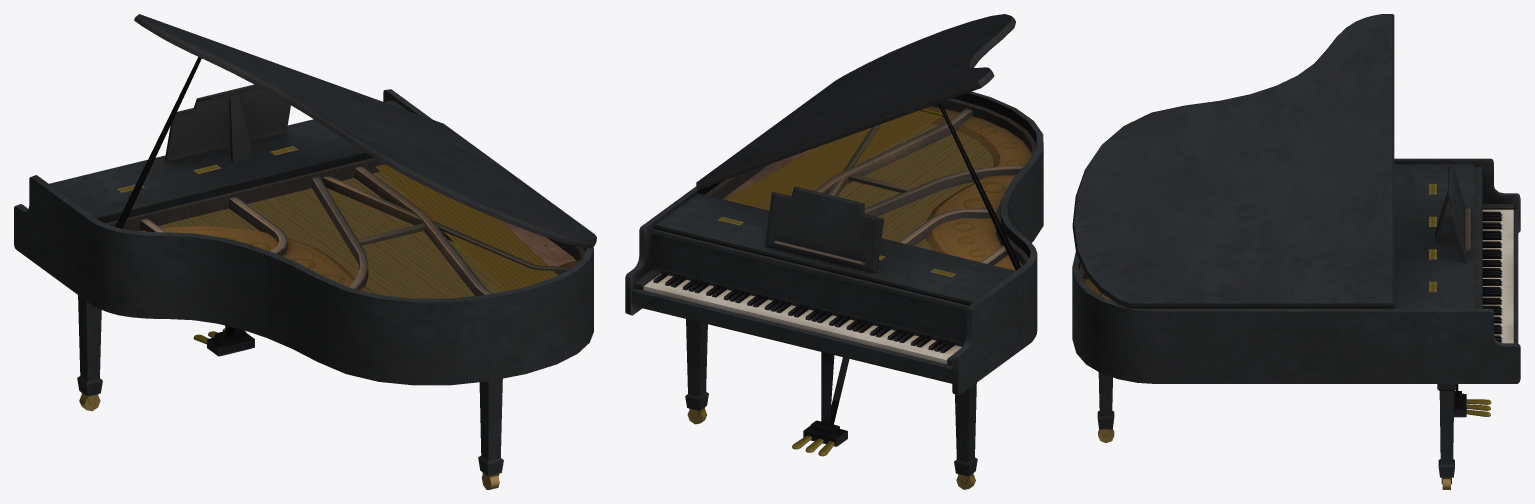
Rendered from furniture_piano.fbx.
3 renders of one model, left to right at view 1: azimuth 30°, elevation 25°; view 2: azimuth 150°, elevation 25°; view 3: azimuth 270°, elevation 25°, orthographic. The views are drawn at different scales.
Visible parts, largest first — view 1: Piano; view 2: Piano; view 3: Piano.
Part boxes in pixels (x1=…): Piano: x1=14, y1=14, x2=596, y2=489; Piano: x1=625, y1=14, x2=1043, y2=489; Piano: x1=1072, y1=14, x2=1520, y2=489.
Size of the model in its own units: 87.64 by 96.04 by 108.
1 material, 1 textured.
